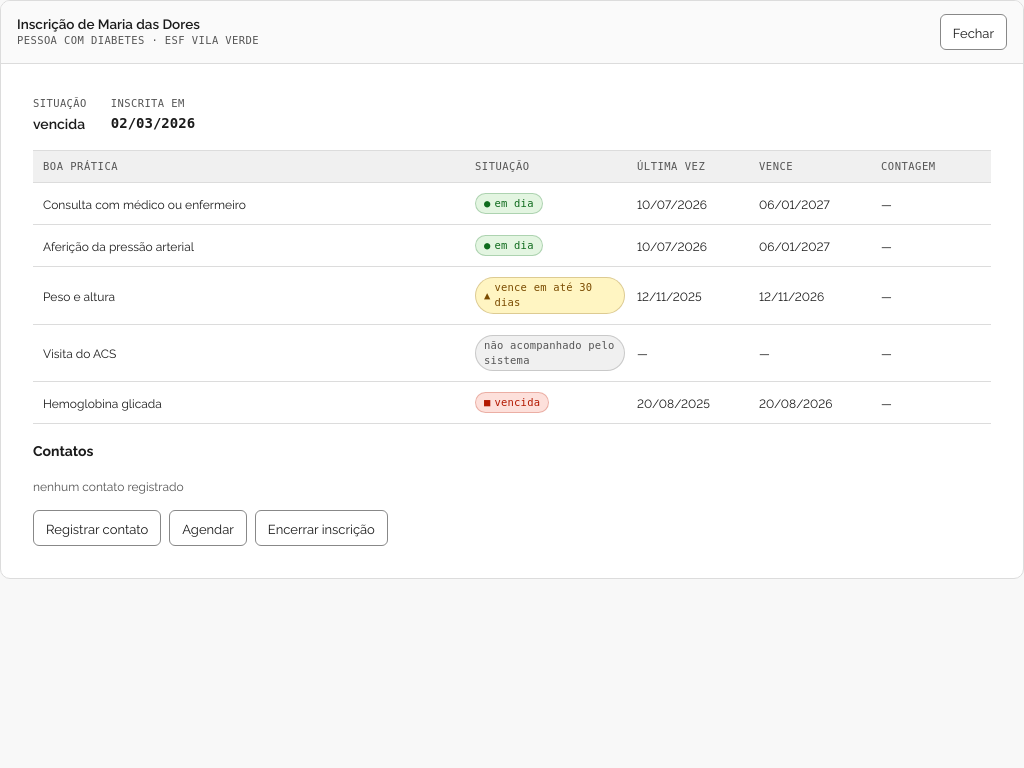
Scenario: Agendar (atalho para o módulo 17) › pedido aberto de OUTRO tipo não é apresentado como pedido da linha
What coordinates should you click on to do the following:
click the button "Agendar"
I would click on:
 (208, 528)
Its box is [169,510,247,546].
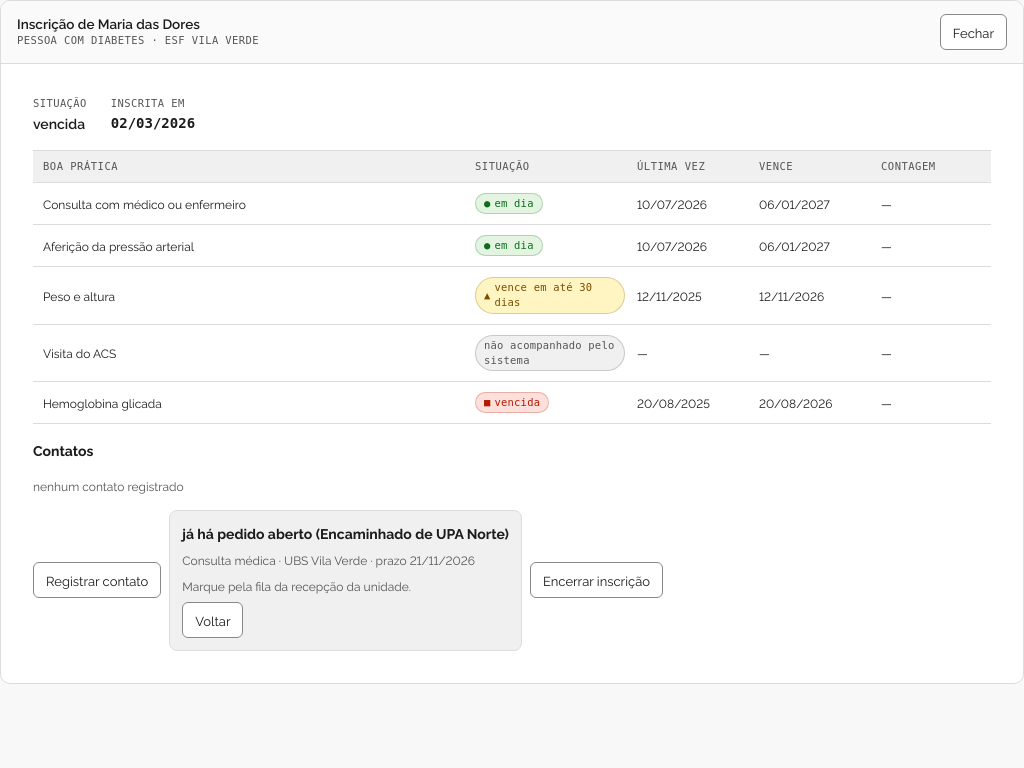
Result: the text "já há pedido aberto (Encaminhado de UPA Norte)" is shown at [182,523,509,543]
Result: the text "Marque pela fila da recepção da unidade." is shown at [182,577,411,594]
